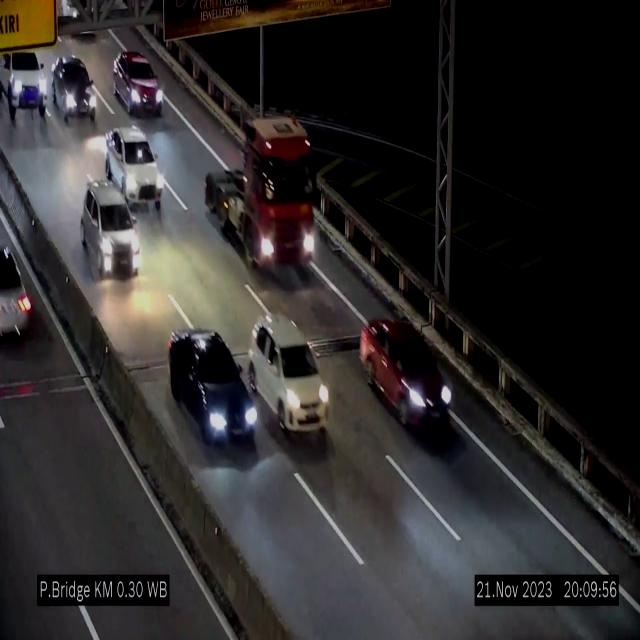Car: (244, 316, 336, 446), (170, 330, 260, 447), (359, 317, 453, 428), (75, 178, 138, 282), (0, 226, 48, 348), (106, 126, 162, 214), (0, 38, 54, 125), (52, 49, 98, 122), (113, 49, 163, 114)
Truck: (197, 112, 319, 284)
